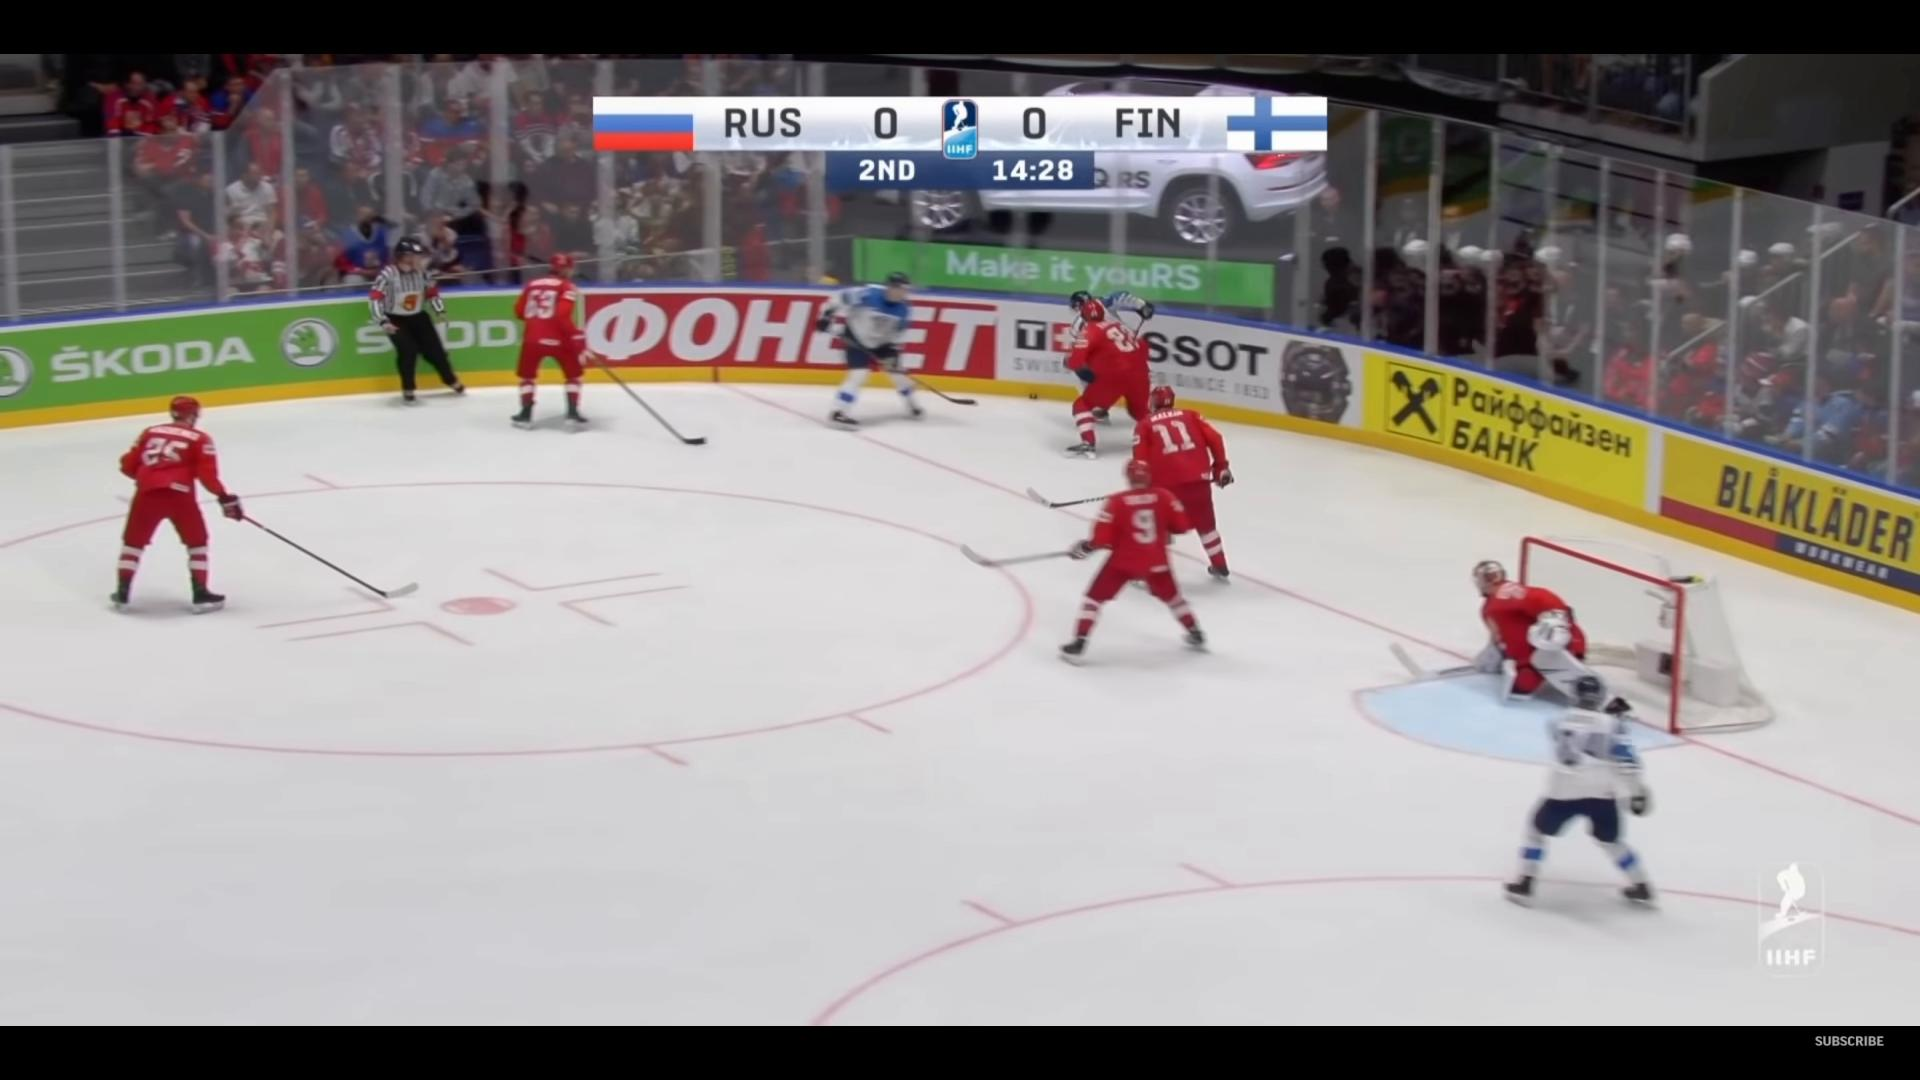puck: (1028, 392, 1037, 399)
